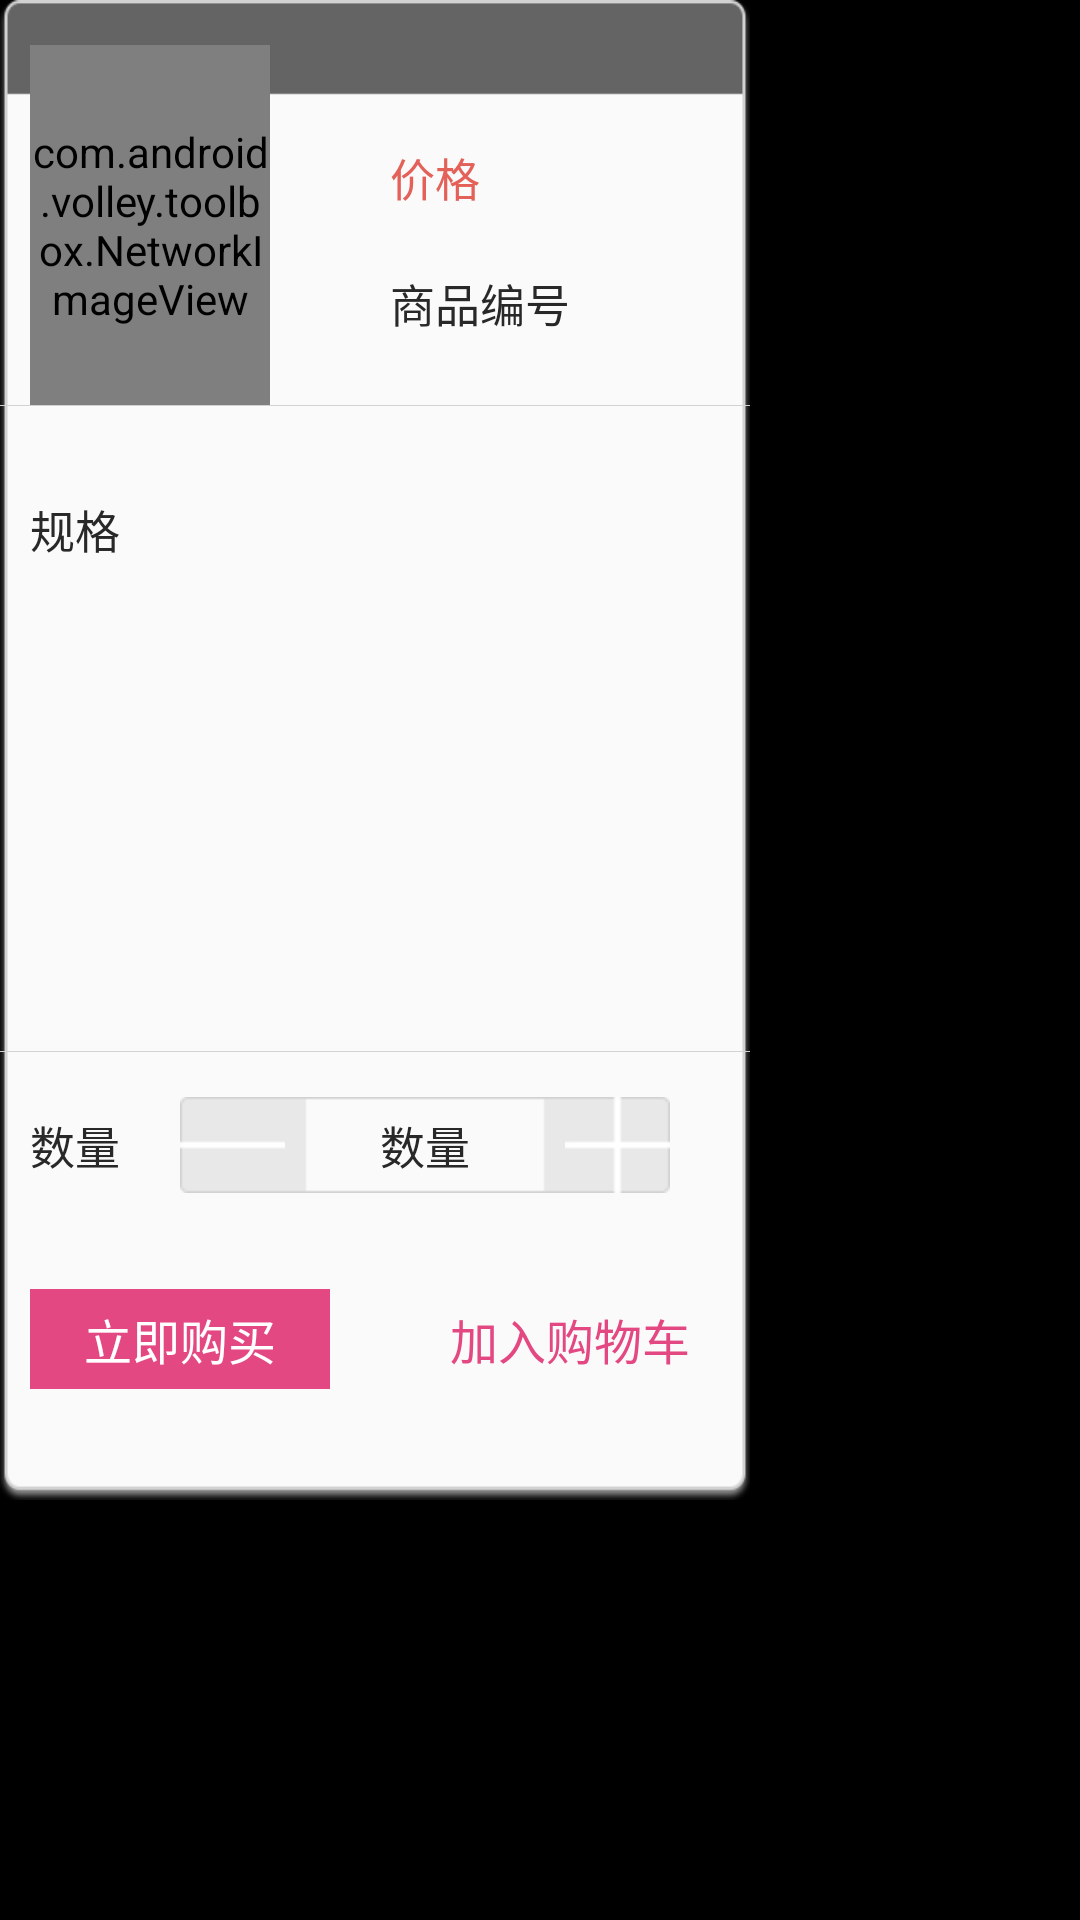

Named icons in this screenshot (1080px×1920px) and their centers, (x=x, y=y):
attribute jia: (x=617, y=1145)
